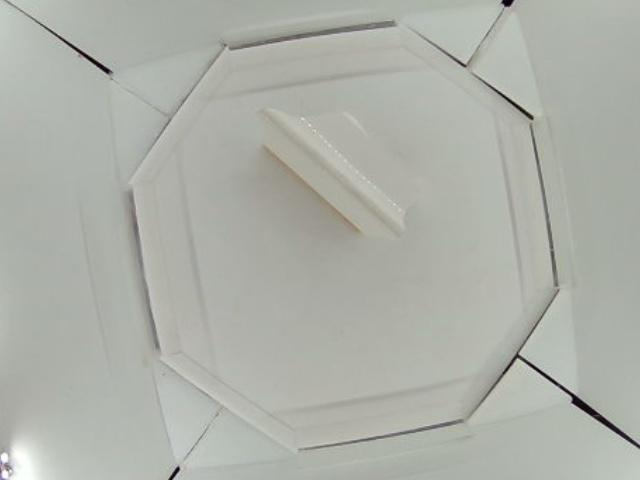China: (257, 101, 419, 242)
